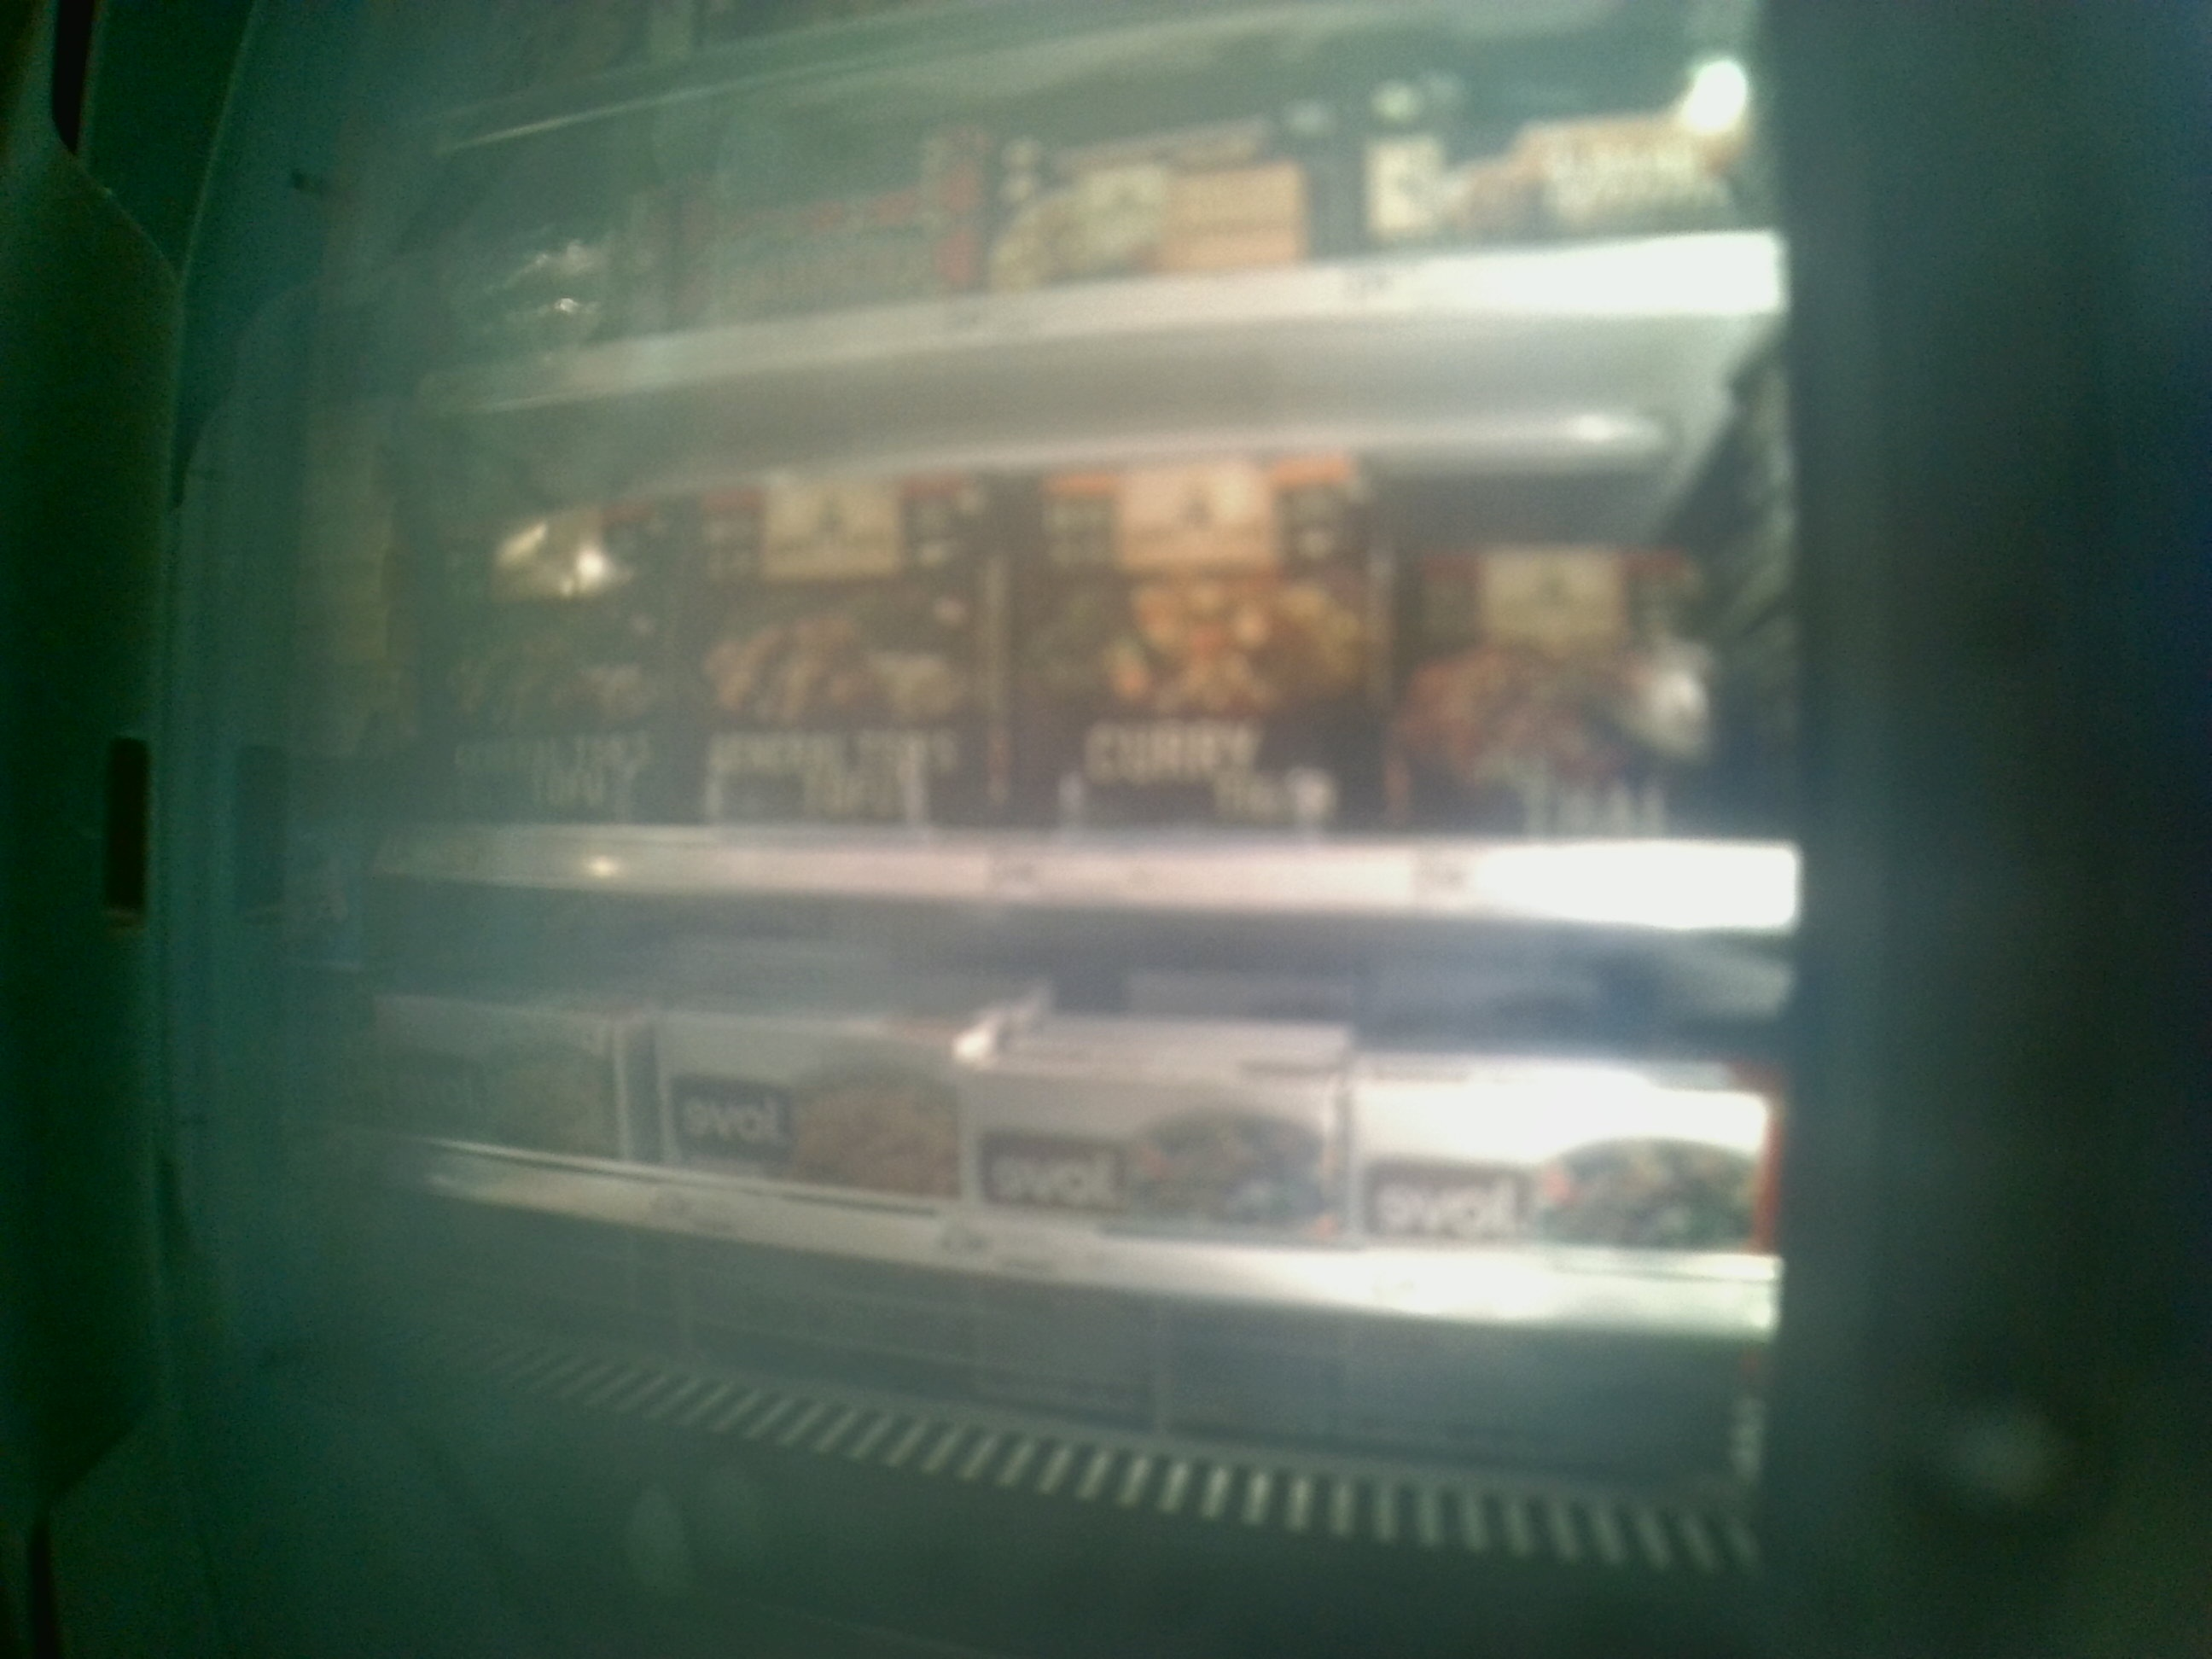frozen-food-shelf: (366, 427, 1810, 929), (348, 938, 1797, 1349)
